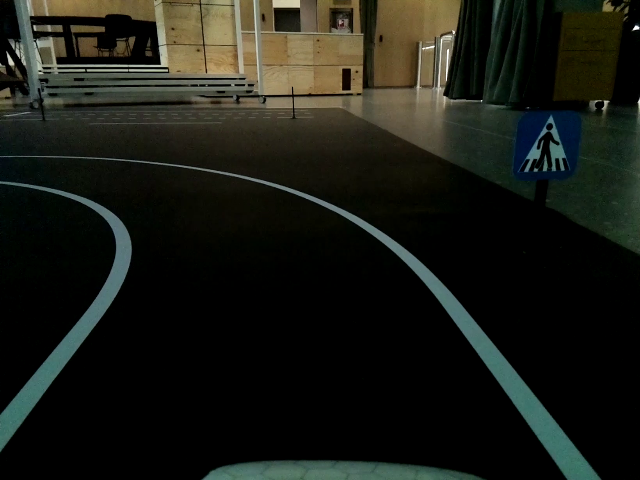pedestrians: (518, 114, 579, 181)
